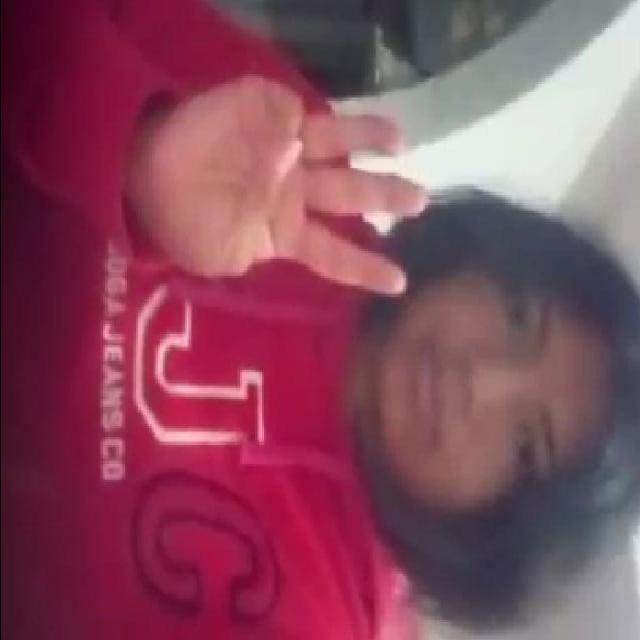W: (120, 35, 432, 346)
